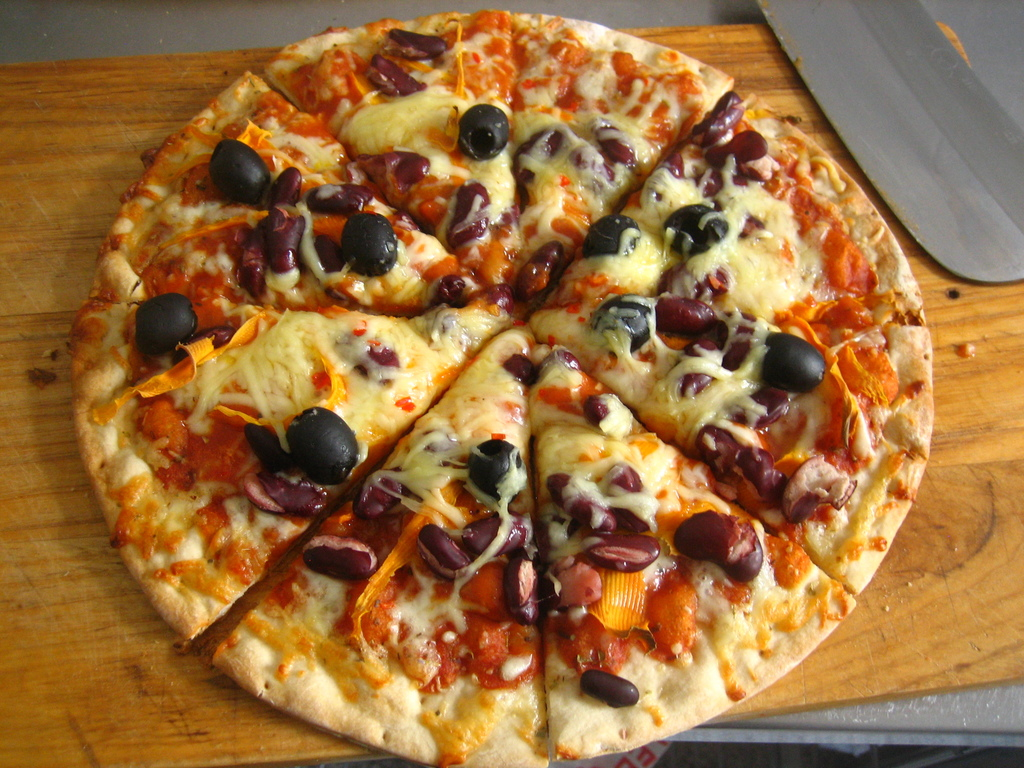Pizza: (69, 5, 931, 767)
